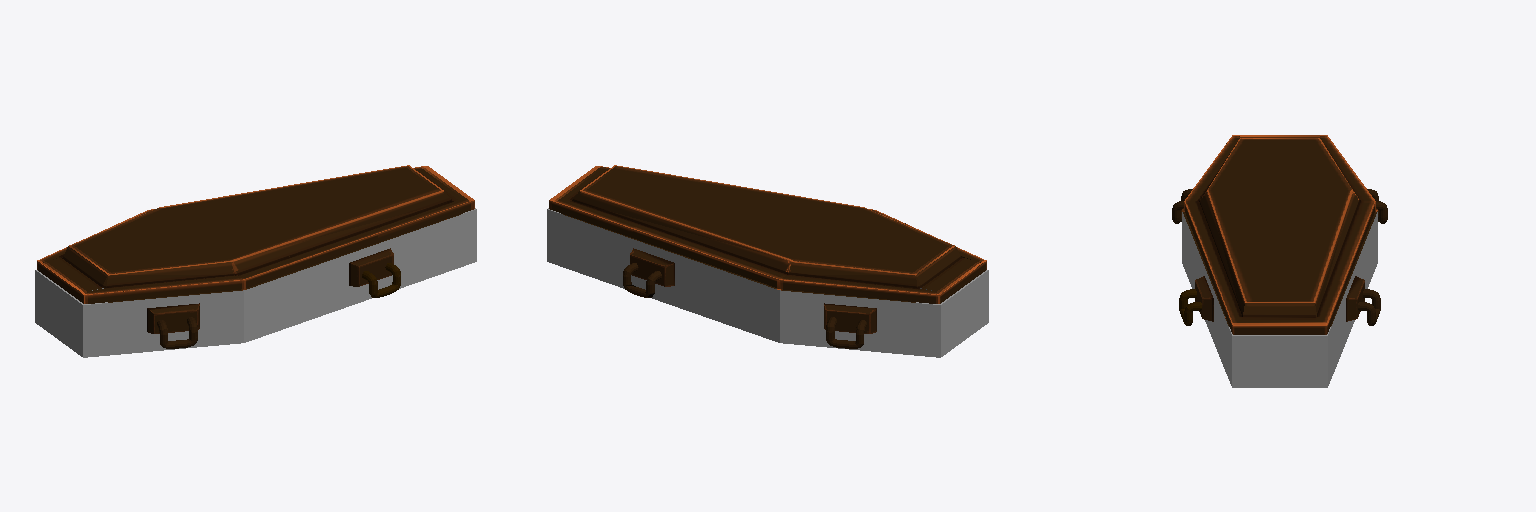
3 views of the same model, side by side, from view 1: azimuth 30°, elevation 25°; view 2: azimuth 150°, elevation 25°; view 3: azimuth 270°, elevation 25° (orthographic).
Parts seen in each view (by area): view 1: Coffin_Cube; view 2: Coffin_Cube; view 3: Coffin_Cube.
Part boxes in pixels (left/top/right/bottom): Coffin_Cube: left=35, top=165, right=476, bottom=357; Coffin_Cube: left=547, top=165, right=988, bottom=357; Coffin_Cube: left=1172, top=135, right=1387, bottom=387.
Size of the model in its own units: 9.52 by 1.69 by 4.53.
2 materials, 1 textured.